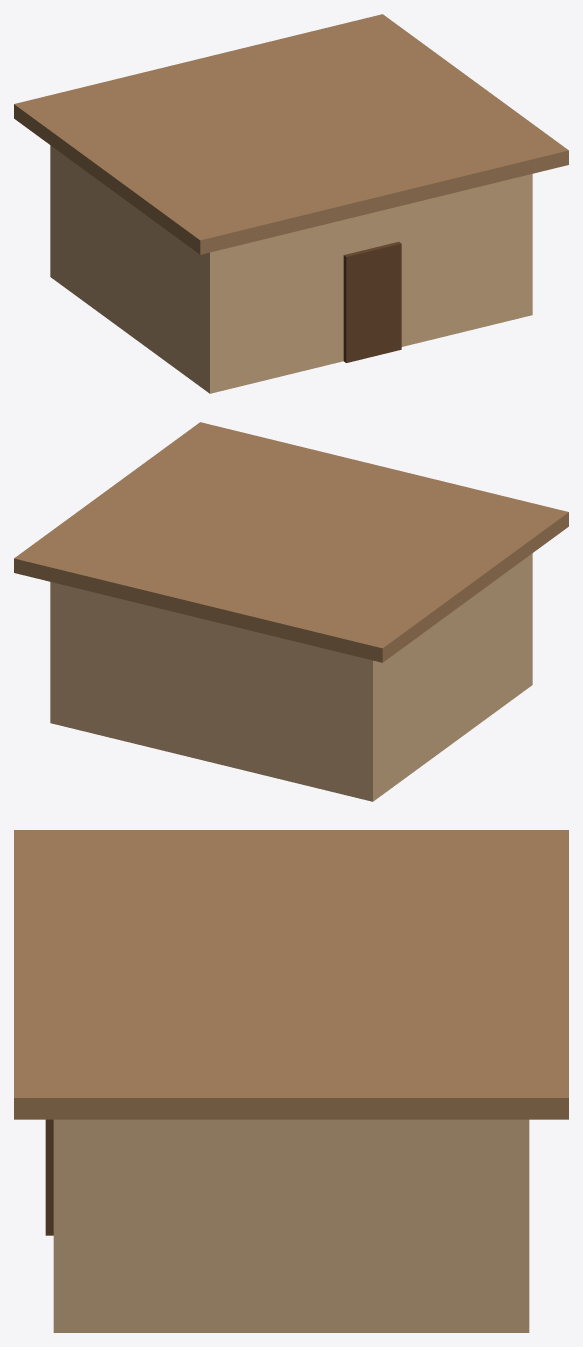
File: adobe_house.glb
3 renders of one model, top to bottom at view 1: azimuth 30°, elevation 25°; view 2: azimuth 150°, elevation 25°; view 3: azimuth 270°, elevation 25°, orthographic. The views are drawn at different scales.
Visible parts, largest first — view 1: Roof, Walls, Door; view 2: Roof, Walls; view 3: Roof, Walls, Door.
Boxes of the visible parts, x1,y1,x2,y2 form: Roof: [14, 14, 568, 254]; Walls: [50, 145, 532, 393]; Door: [343, 241, 401, 362]; Roof: [14, 422, 568, 662]; Walls: [50, 553, 532, 801]; Roof: [14, 830, 568, 1119]; Walls: [53, 1119, 529, 1332]; Door: [45, 1119, 53, 1235].
Size of the model in its own units: 8 by 3.5 by 7.
